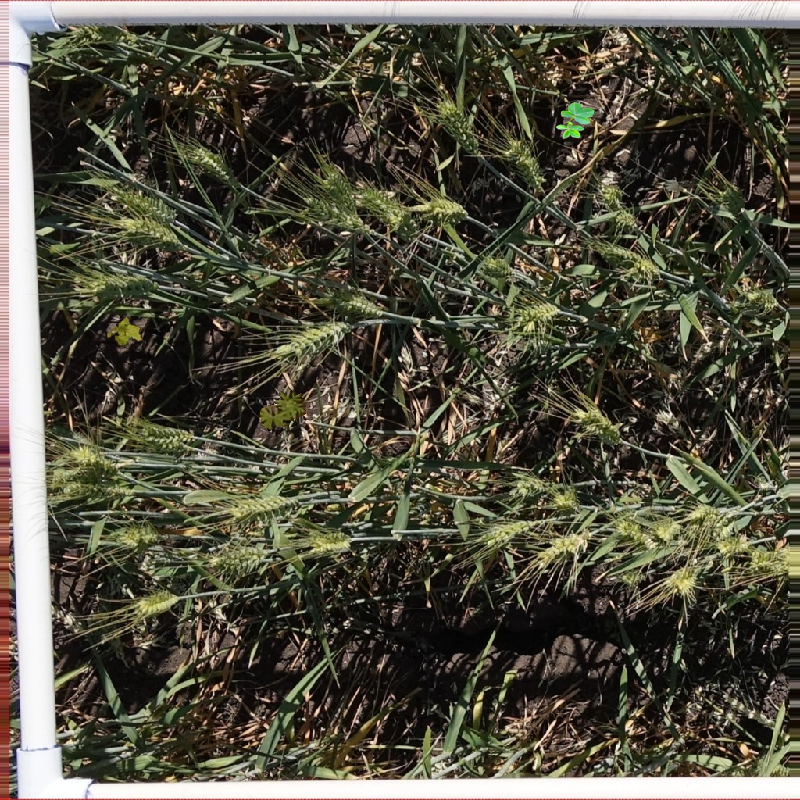spikelet: (270, 316, 352, 363), (434, 97, 484, 158), (107, 182, 179, 221), (75, 269, 156, 301), (181, 141, 237, 185), (599, 186, 649, 234), (593, 239, 657, 276), (533, 528, 592, 568), (569, 402, 623, 445), (301, 195, 365, 231), (503, 135, 546, 188), (116, 214, 185, 247), (64, 440, 120, 479), (66, 19, 135, 49), (326, 282, 385, 317), (357, 185, 407, 226), (206, 541, 270, 573), (137, 421, 197, 452), (229, 491, 295, 518), (479, 515, 534, 547), (509, 297, 561, 329), (610, 513, 657, 548), (321, 168, 359, 208), (132, 586, 181, 617), (305, 526, 353, 555), (112, 520, 160, 549), (685, 501, 729, 532), (748, 544, 789, 575), (423, 194, 468, 222), (508, 469, 550, 499), (478, 250, 519, 280), (663, 562, 700, 595), (739, 284, 779, 311), (714, 530, 750, 555), (716, 184, 745, 215), (549, 486, 582, 513), (651, 514, 682, 541)
weed: (260, 390, 306, 431), (556, 102, 595, 139), (107, 317, 143, 347)
